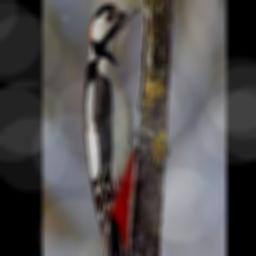Woodpecker: (83, 3, 150, 256)
